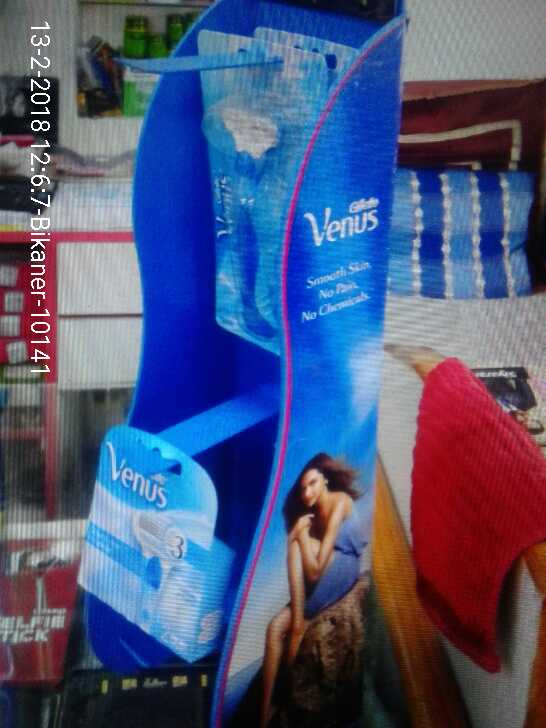venus: (186, 36, 316, 356), (73, 424, 217, 652)
